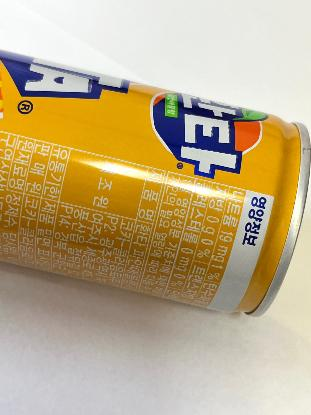Can: (0, 46, 311, 321)
